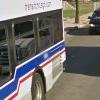Bus: (1, 3, 72, 98)
